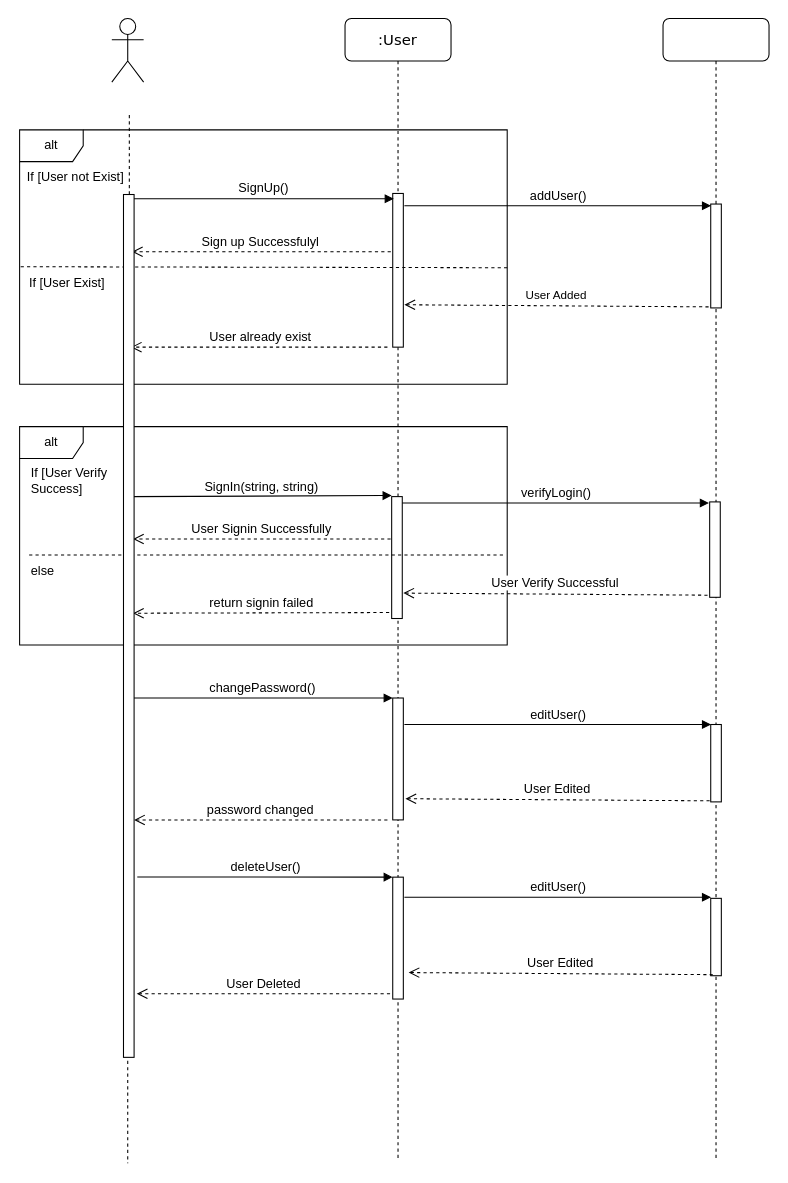
Image size: 788x1183. Some labels were removed from this diagram. The shapes that lost their labels are listed below. From the top down, each one's box as (x1, y1, x2, y2) in pixels, then its label:
(111, 17, 144, 82): Admin
(662, 17, 769, 1161): DATABASE
